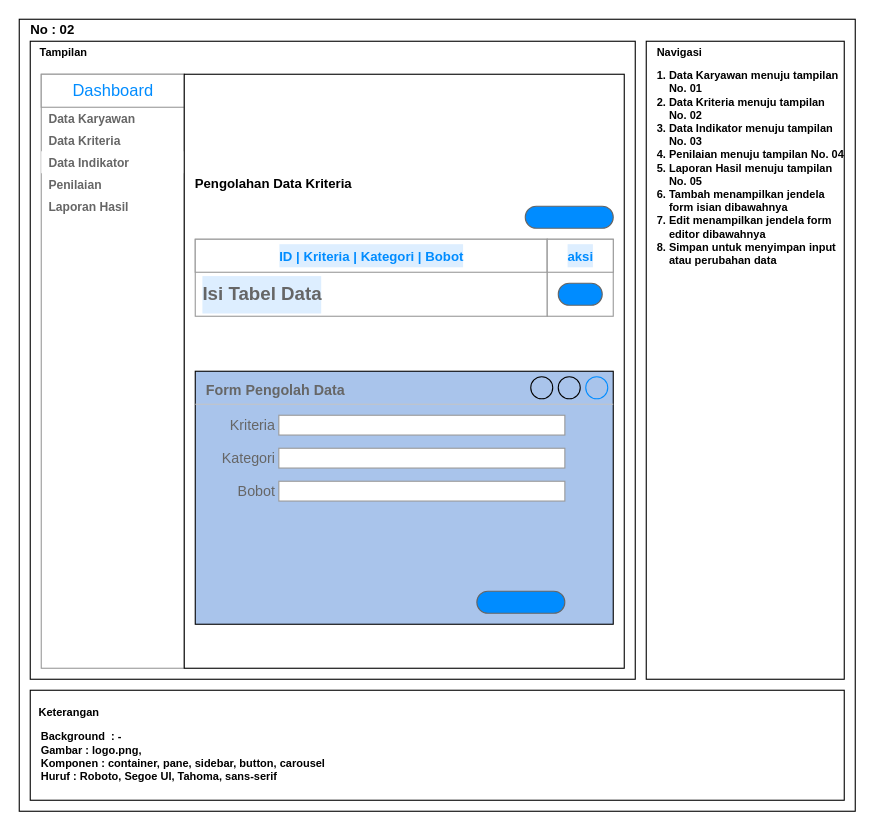
The diagram is 886 pixels wide and 831 high, and some of its shapes have lost their labels. Each missing label, with the box of its shape:
edit: (557, 282, 602, 305)
simpan: (476, 590, 565, 613)
tambah: (524, 205, 613, 228)
